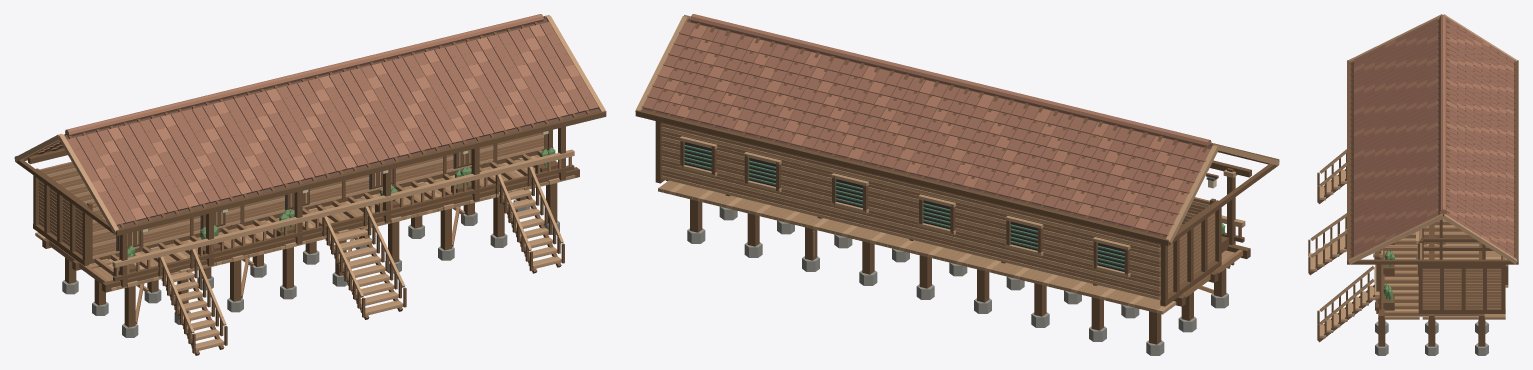
File: Longhouse_Kampung__pathmode_copy.fbx
3 renders of one model, left to right at view 1: azimuth 30°, elevation 25°; view 2: azimuth 150°, elevation 25°; view 3: azimuth 270°, elevation 25°, orthographic. The views are drawn at different scales.
Visible parts, largest first — view 1: Front long eave beam, Veranda front handrail, Veranda front lower rail, Longitudinal bearer, Front roof underlay, Longitudinal bearer.001, Veranda inner wall siding, Veranda inner wall siding.003, Veranda inner wall siding.004, Veranda inner wall siding.002, Veranda inner wall siding.001, Veranda inner wall siding.005 (+7 smaller); view 2: Rear long eave beam, Rear wall timber siding.016, Rear wall timber siding.002, Rear wall timber siding, Rear wall timber siding.001, Rear wall timber siding.003, Rear wall timber siding.015, Rear wall timber siding.004, Rear roof underlay, Rear wall timber siding.014, Rear wall timber siding.009, Rear wall timber siding.010 (+13 smaller); view 3: Front long eave beam, Gable tie beam.001, Rear long eave beam, Front roof underlay, Front gable rake.001, Rear gable rake.001, End wall horizontal frame.002, End wall horizontal frame.003, Floor joist.020, Interior floor plank 88, Floor joist.029, Front gable rake (+30 smaller).
Boxes of the visible parts, x1=… form: Front long eave beam: x1=116, y1=111, x2=606, y2=235; Veranda front handrail: x1=112, y1=149, x2=574, y2=267; Veranda front lower rail: x1=113, y1=164, x2=574, y2=281; Longitudinal bearer: x1=102, y1=167, x2=579, y2=292; Front roof underlay: x1=64, y1=18, x2=599, y2=228; Longitudinal bearer.001: x1=72, y1=149, x2=543, y2=270; Veranda inner wall siding: x1=92, y1=146, x2=544, y2=258; Veranda inner wall siding.003: x1=92, y1=137, x2=544, y2=249; Veranda inner wall siding.004: x1=92, y1=134, x2=544, y2=246; Veranda inner wall siding.002: x1=92, y1=140, x2=544, y2=252; Veranda inner wall siding.001: x1=92, y1=143, x2=544, y2=255; Veranda inner wall siding.005: x1=92, y1=133, x2=542, y2=243; Rear long eave beam: x1=635, y1=110, x2=1169, y2=245; Rear wall timber siding.016: x1=661, y1=123, x2=1160, y2=248; Rear wall timber siding.002: x1=661, y1=169, x2=1160, y2=293; Rear wall timber siding: x1=661, y1=175, x2=1160, y2=299; Rear wall timber siding.001: x1=661, y1=172, x2=1160, y2=296; Rear wall timber siding.003: x1=661, y1=166, x2=1160, y2=290; Rear wall timber siding.015: x1=661, y1=127, x2=1160, y2=251; Rear wall timber siding.004: x1=661, y1=162, x2=1160, y2=287; Rear roof underlay: x1=642, y1=18, x2=1211, y2=237; Rear wall timber siding.014: x1=661, y1=130, x2=1160, y2=254; Rear wall timber siding.009: x1=661, y1=146, x2=1160, y2=270; Rear wall timber siding.010: x1=661, y1=143, x2=1160, y2=267; Front long eave beam: x1=1347, y1=60, x2=1351, y2=264; Gable tie beam.001: x1=1349, y1=259, x2=1516, y2=264; Rear long eave beam: x1=1514, y1=60, x2=1518, y2=264; Front roof underlay: x1=1351, y1=19, x2=1442, y2=257; Front gable rake.001: x1=1348, y1=213, x2=1443, y2=264; Rear gable rake.001: x1=1443, y1=213, x2=1517, y2=264; End wall horizontal frame.002: x1=1418, y1=308, x2=1505, y2=313; End wall horizontal frame.003: x1=1418, y1=264, x2=1505, y2=268; Floor joist.020: x1=1384, y1=253, x2=1478, y2=257; Interior floor plank 88: x1=1422, y1=315, x2=1505, y2=319; Floor joist.029: x1=1384, y1=311, x2=1478, y2=316; Front gable rake: x1=1348, y1=14, x2=1442, y2=62.
Size of the model in its own units: 2330 by 842 by 1030.
